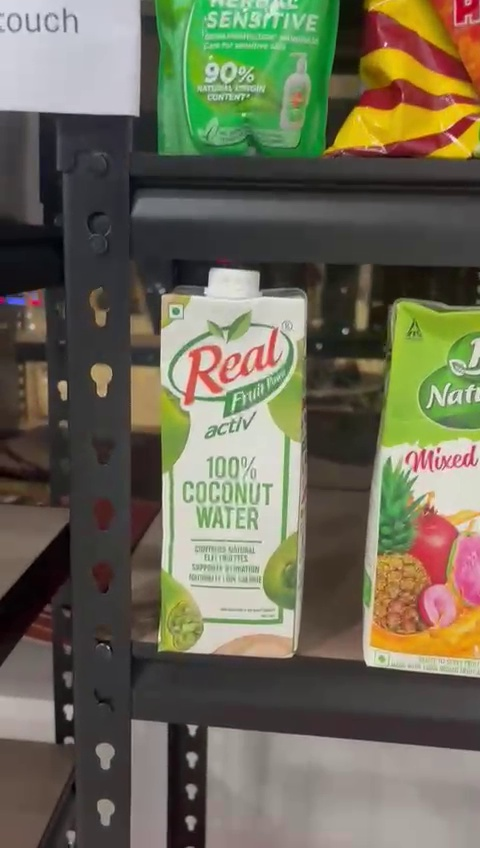Coconut water: (156, 269, 303, 666)
